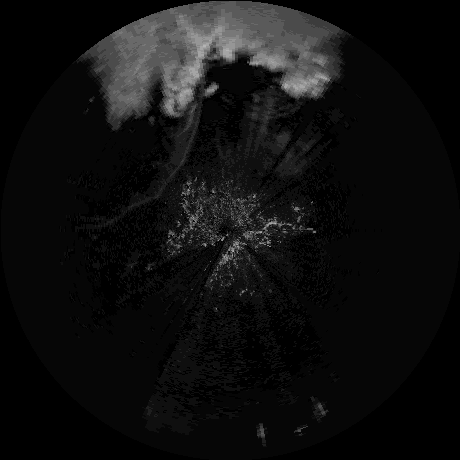frontgust: (91, 107, 201, 231), (179, 92, 202, 136)
